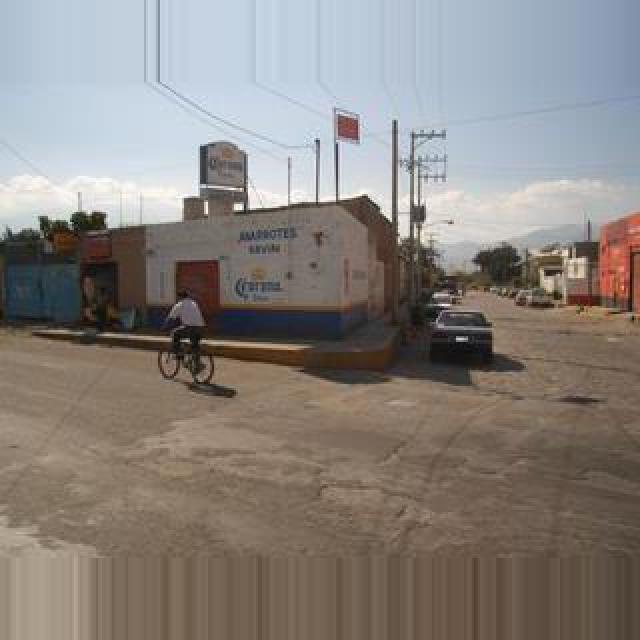Bus-Bike: (430, 310, 494, 362)
MC-Bike: (162, 288, 208, 376)
Person: (158, 332, 214, 386)
